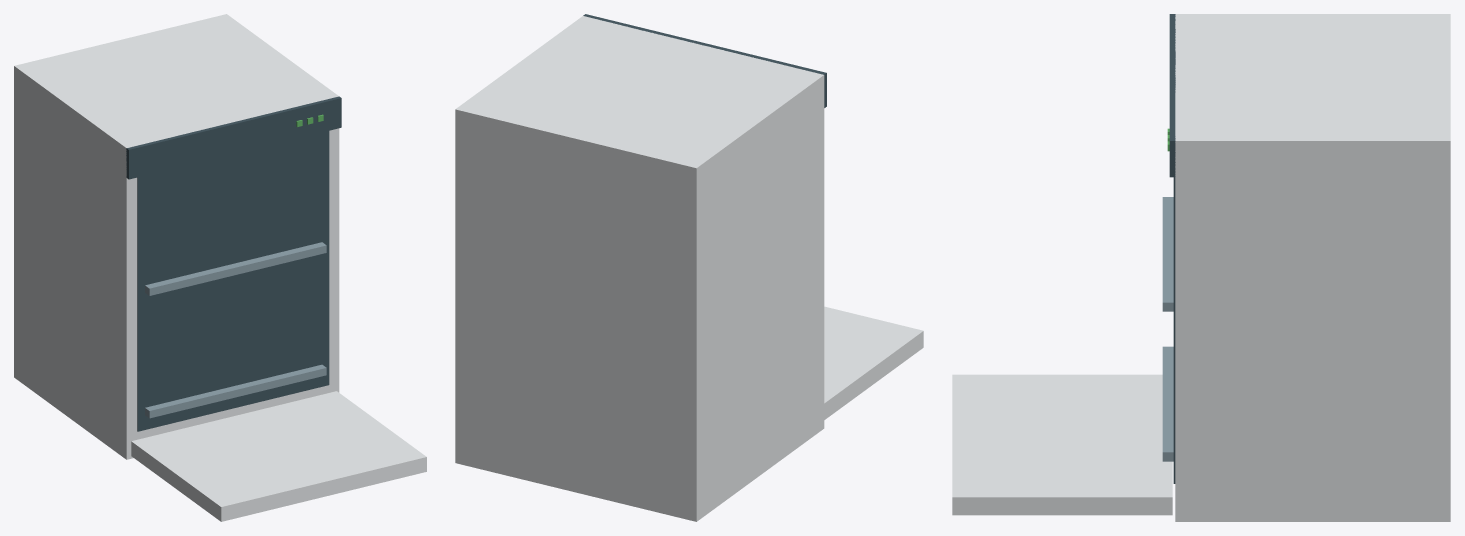
The model's file is diskmaskin.glb.
3 views of the same model, side by side, from view 1: azimuth 30°, elevation 25°; view 2: azimuth 150°, elevation 25°; view 3: azimuth 270°, elevation 25° (orthographic). The views are drawn at different scales.
Visible parts, largest first — view 1: diskmaskin; view 2: diskmaskin; view 3: diskmaskin.
Boxes of the visible parts, <box> form: diskmaskin: <box>14,14,426,521</box>; diskmaskin: <box>455,14,923,521</box>; diskmaskin: <box>952,14,1450,521</box>.
Size of the model in its own units: 0.6 by 0.84 by 0.995.
